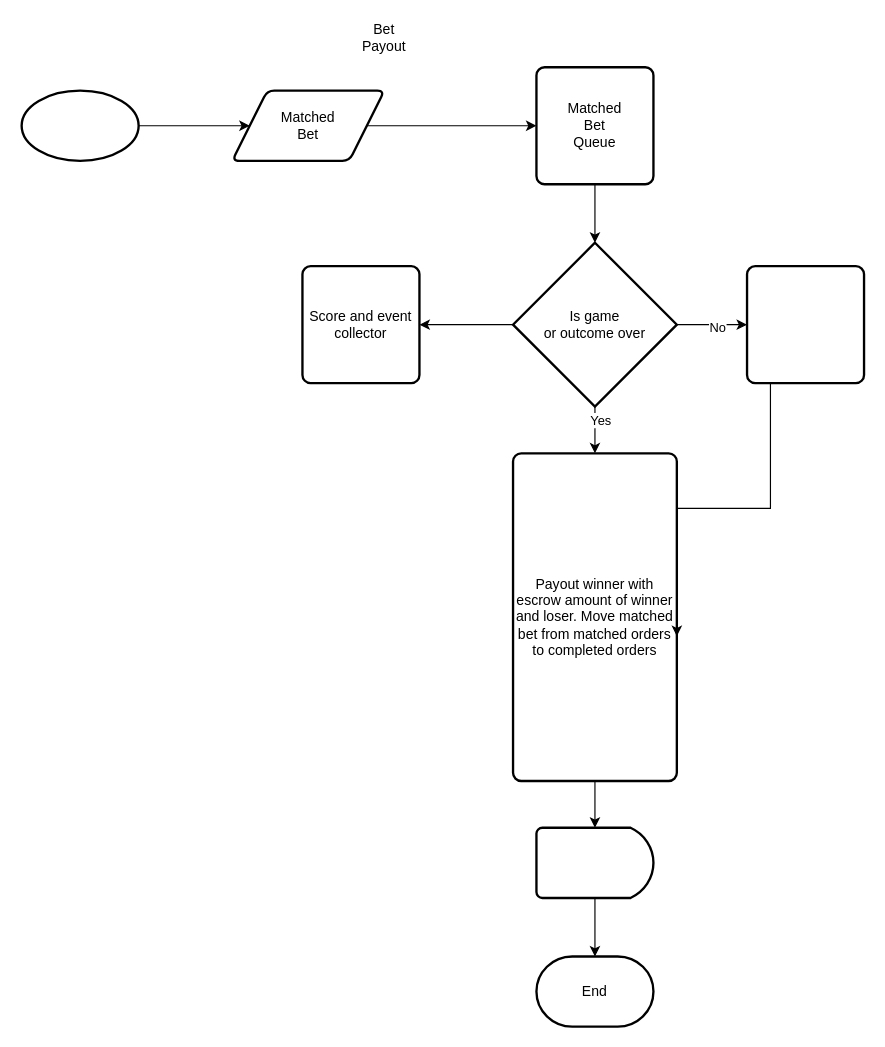
This 885x1047 diagram has some shape labels left out. The centre of each missing label's shape, as x and y in pixels:
"Start" goes at [79,125].
"Validate payout" goes at [594,862].
"Wait till game or event is over." goes at [805,324].
